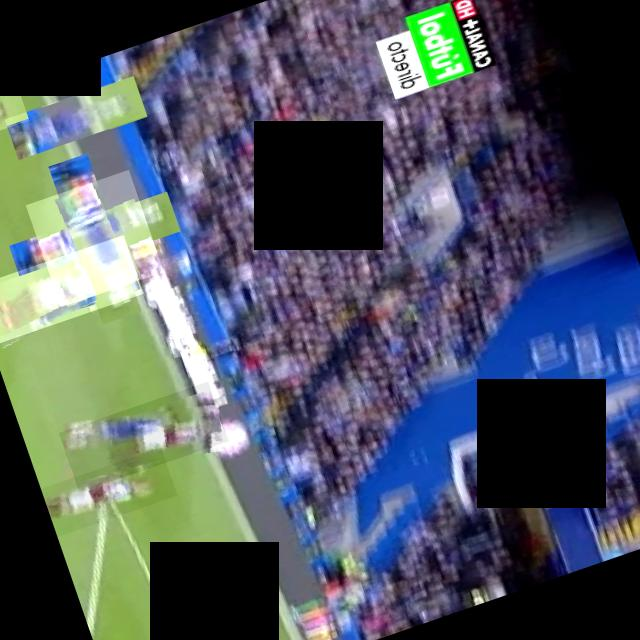soccer-player: (24, 170, 162, 308), (58, 381, 228, 492), (0, 234, 143, 344), (40, 447, 176, 537), (3, 75, 146, 160), (111, 612, 278, 640), (0, 86, 28, 156)
